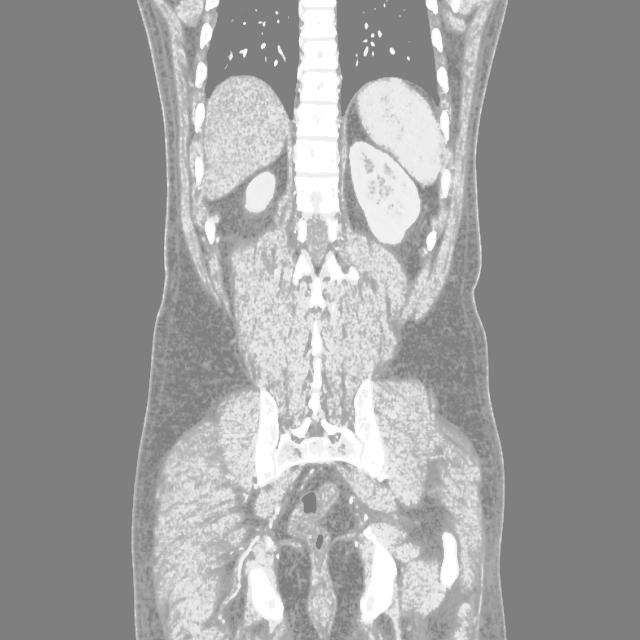NORMAL: (132, 58, 559, 419)
